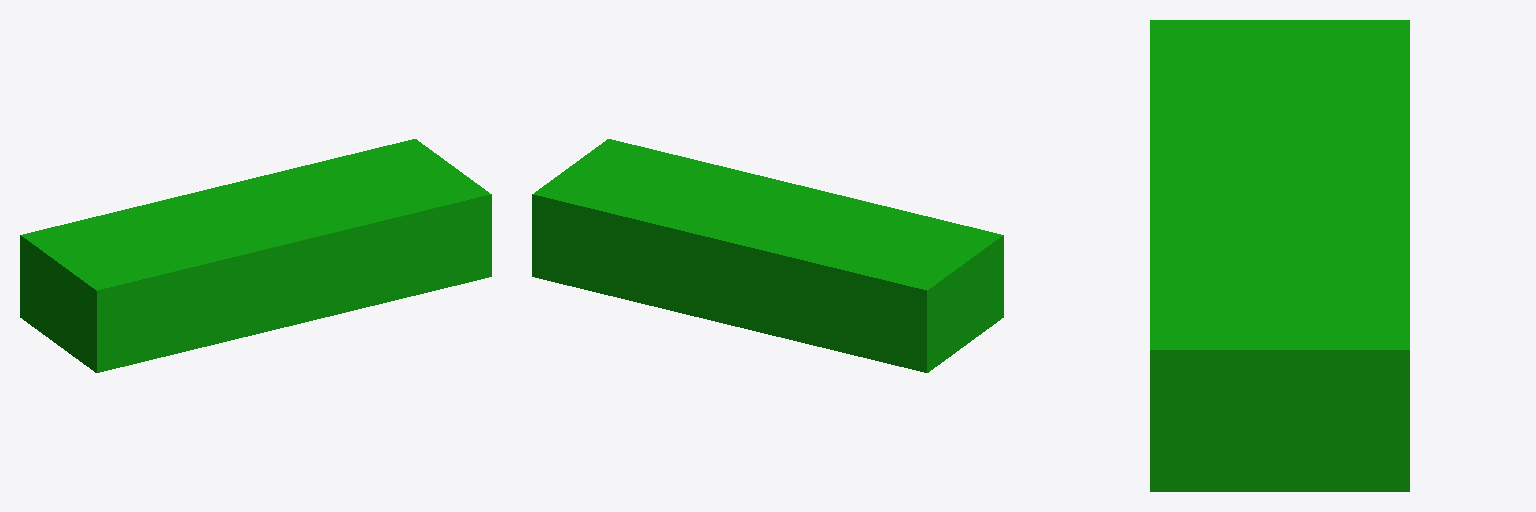
URDF robot description (block_2):
<?xml version="1.0"?>

<robot name="block_2">
  <link name="block_2_base_link">
    <contact>
      <lateral_friction value="1.0"/>
      <spinning_friction value="1.0"/>
    </contact>
    <inertial>
      <origin rpy="0 0 0" xyz="0 0 0"/>
      <mass value="1"/>
      <inertia ixx="1" ixy="0" ixz="0" iyy="1" iyz="0" izz="1"/>
    </inertial>
    <visual>
      <origin rpy="0 0 0" xyz="0.0 0.0 0.0"/>
      <geometry>
        <box size="0.075 0.025 0.015"/>
      </geometry>
      <material name="blockmat">
        <color rgba="0.1 0.7 0.1 1"/>
      </material>
    </visual>
    <collision>
      <origin rpy="0 0 0" xyz="0.0 0.0 0.0"/>
      <geometry>
        <box size="0.075 0.025 0.015"/>
      </geometry>
    </collision>
  </link>
</robot>

--- What the picture shows (computed from the rendered views, not written in the file) ---
3 views of the same robot in one strip: view 1: azimuth 30°, elevation 25°; view 2: azimuth 150°, elevation 25°; view 3: azimuth 270°, elevation 25° (orthographic).
Robot: block_2 — 1 links, 0 joints (none); root link block_2_base_link; default pose: all joints at 0.
Links seen in each view (by area): view 1: block_2_base_link; view 2: block_2_base_link; view 3: block_2_base_link.
Boxes of the visible links, left/top/right/bottom form: block_2_base_link: left=20, top=139, right=491, bottom=372; block_2_base_link: left=532, top=139, right=1003, bottom=372; block_2_base_link: left=1150, top=20, right=1409, bottom=491.
Size in the robot's own frame: 0.075 by 0.025 by 0.015 metres.
Geometry: primitives only (box / cylinder / sphere), no mesh files.